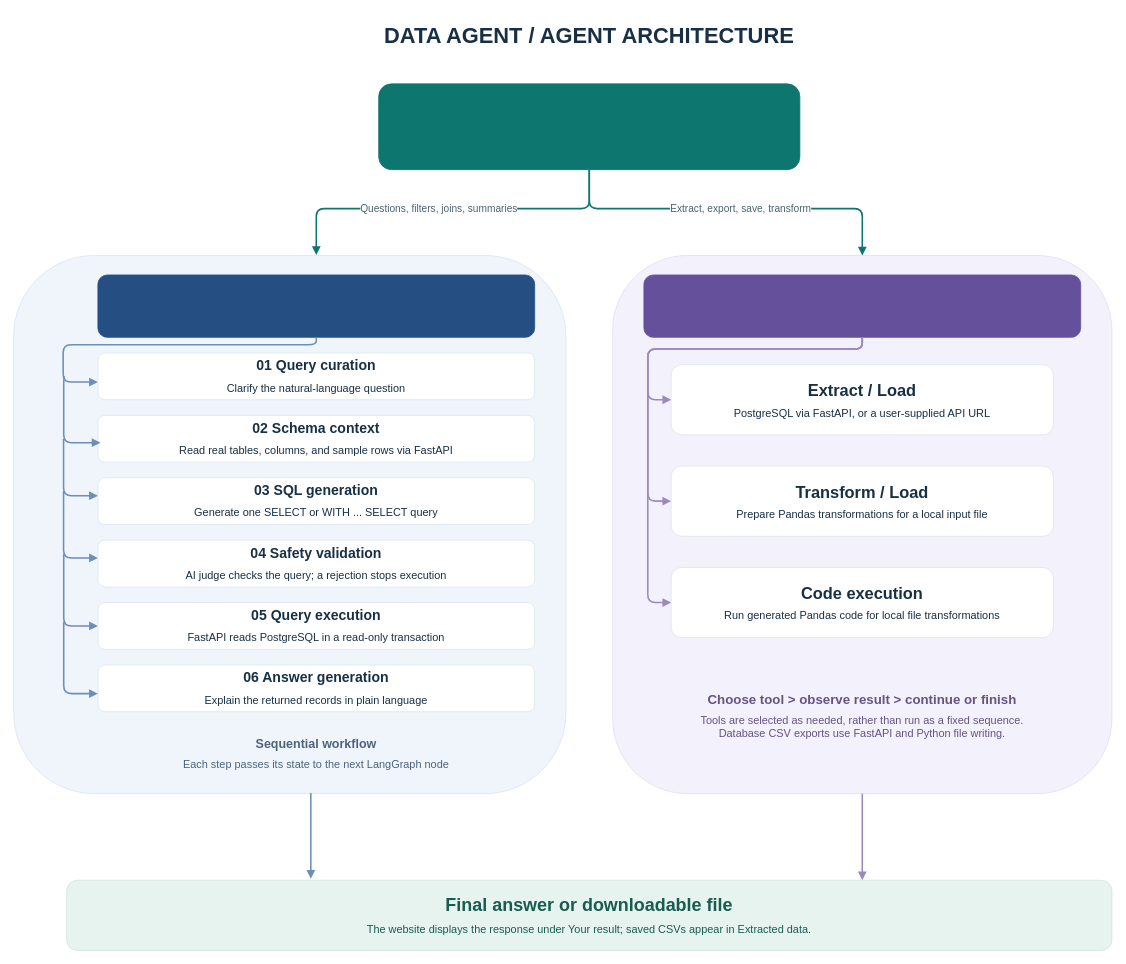
Image size: 1126x964. Some labels were removed from this diagram. The shapes that lost their labels are listed below. From the top down, each one's centre as x and y in pixels, then its label:
the point at 589,126: Data Agent (Router) Classifies the request and selects one specialist
the point at 316,305: SQL Analyst Agent Answers questions about the connected database
the point at 862,305: ETL Analyst Agent Selects tools to extract, export, or transform data
